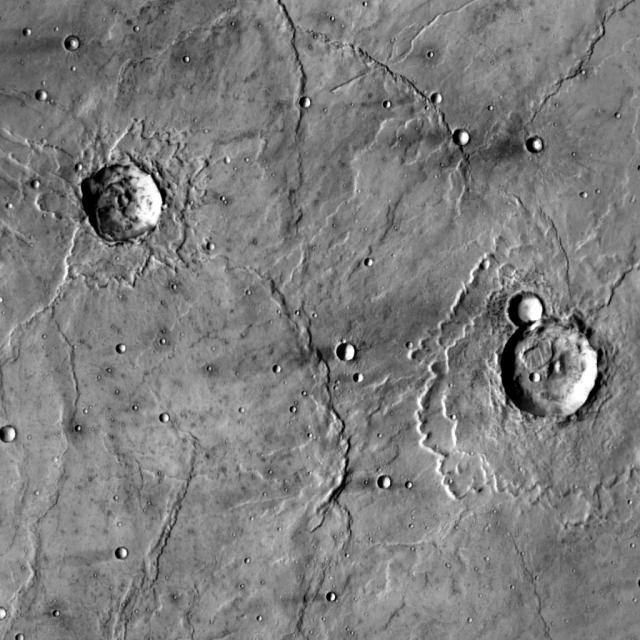crater: (0, 301, 344, 640), (503, 322, 603, 419), (86, 165, 166, 244), (512, 296, 549, 332), (338, 342, 356, 360), (2, 427, 19, 444), (524, 137, 541, 154), (454, 131, 472, 147), (67, 37, 82, 52), (379, 476, 393, 490), (479, 257, 493, 270), (115, 547, 128, 560), (0, 609, 9, 623), (432, 92, 442, 104), (40, 93, 51, 103), (354, 374, 364, 384), (365, 258, 375, 268), (300, 97, 310, 107), (530, 374, 540, 383), (33, 181, 42, 190), (161, 414, 170, 423), (273, 365, 282, 374), (116, 346, 125, 354), (334, 596, 342, 604), (27, 31, 35, 38), (206, 243, 213, 251), (74, 165, 82, 172), (384, 101, 391, 109), (223, 157, 230, 164), (53, 610, 60, 617), (580, 191, 588, 197), (406, 482, 414, 488), (6, 203, 12, 210), (290, 408, 297, 414), (408, 340, 414, 347)
